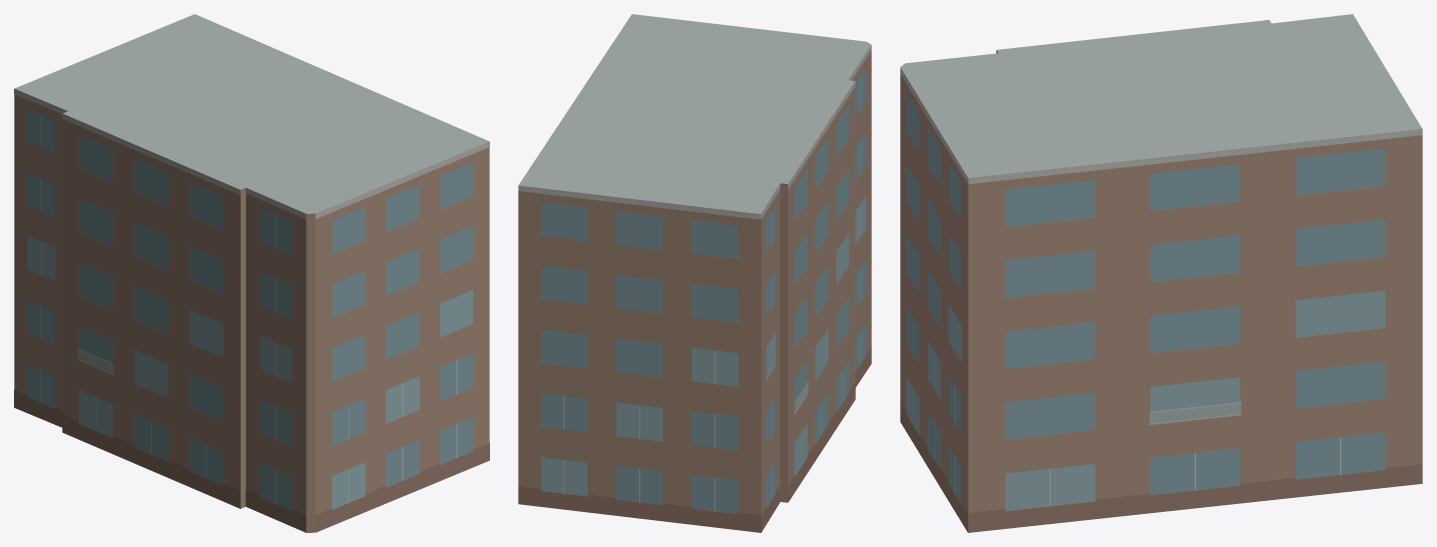
The model's file is survey-upis-32710397.glb.
3 renders of one model, left to right at view 1: azimuth 30°, elevation 25°; view 2: azimuth 150°, elevation 25°; view 3: azimuth 270°, elevation 25°, orthographic. The views are drawn at different scales.
Visible parts, largest first — view 1: survey-upis-32710397.tmp; view 2: survey-upis-32710397.tmp; view 3: survey-upis-32710397.tmp.
Part boxes in pixels (bbox=[...]): survey-upis-32710397.tmp: bbox=[14, 14, 489, 532]; survey-upis-32710397.tmp: bbox=[518, 14, 871, 532]; survey-upis-32710397.tmp: bbox=[900, 14, 1422, 532].
Bounding box in the file's own units: 14 × 14.1 × 18.82.
